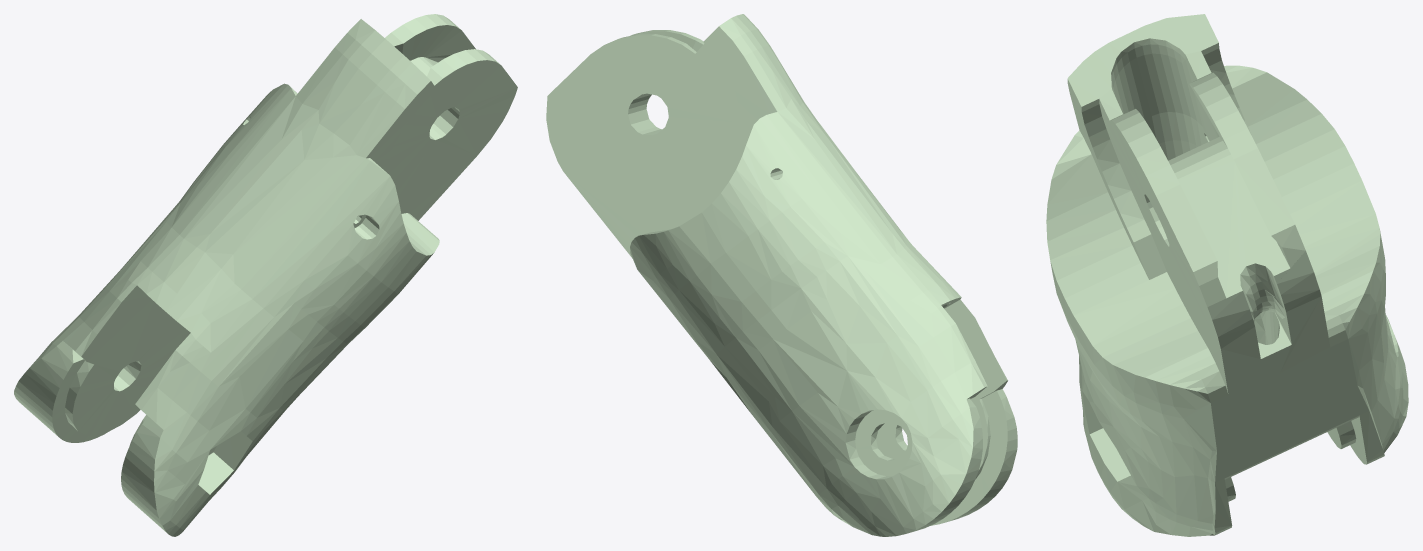
Rendered from i02_rightHand_ThumbMid_visual.obj.light.glb.
3 views of the same model, side by side, from view 1: azimuth 30°, elevation 25°; view 2: azimuth 150°, elevation 25°; view 3: azimuth 270°, elevation 25° (orthographic). The views are drawn at different scales.
Bounding box in the file's own units: 0.4503 × 0.4356 × 0.2184.
